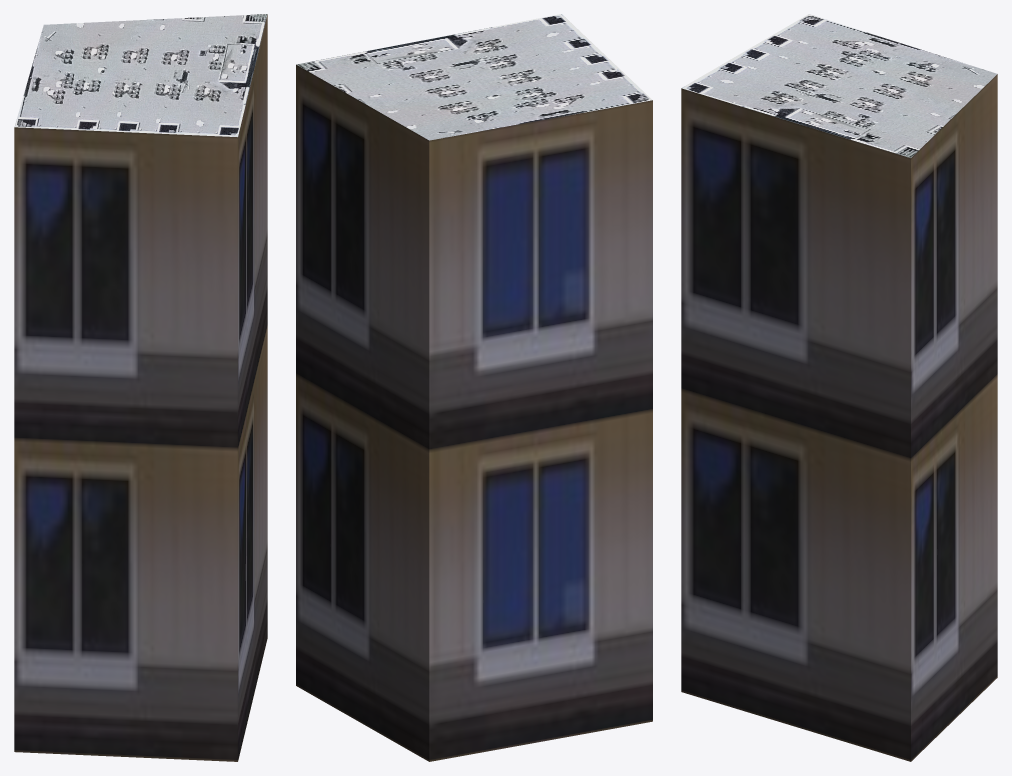
Rendered from ResTex__3780.fbx.
The picture shows the model from 3 angles, left to right: view 1: azimuth 30°, elevation 25°; view 2: azimuth 150°, elevation 25°; view 3: azimuth 270°, elevation 25°; orthographic projection. The views are drawn at different scales.
Parts seen in each view (by area): view 1: CityEngineMaterial_5_m, CityEngineMaterial_m; view 2: CityEngineMaterial_5_m, CityEngineMaterial_m; view 3: CityEngineMaterial_5_m, CityEngineMaterial_m.
Boxes of the visible parts, bbox=[...] form: CityEngineMaterial_5_m: bbox=[14, 14, 267, 761]; CityEngineMaterial_m: bbox=[14, 14, 267, 137]; CityEngineMaterial_5_m: bbox=[296, 64, 652, 761]; CityEngineMaterial_m: bbox=[296, 14, 652, 140]; CityEngineMaterial_5_m: bbox=[681, 74, 997, 761]; CityEngineMaterial_m: bbox=[682, 14, 997, 157].
Size of the model in its own units: 3.07 by 6 by 2.85.
2 materials, 2 textured.
